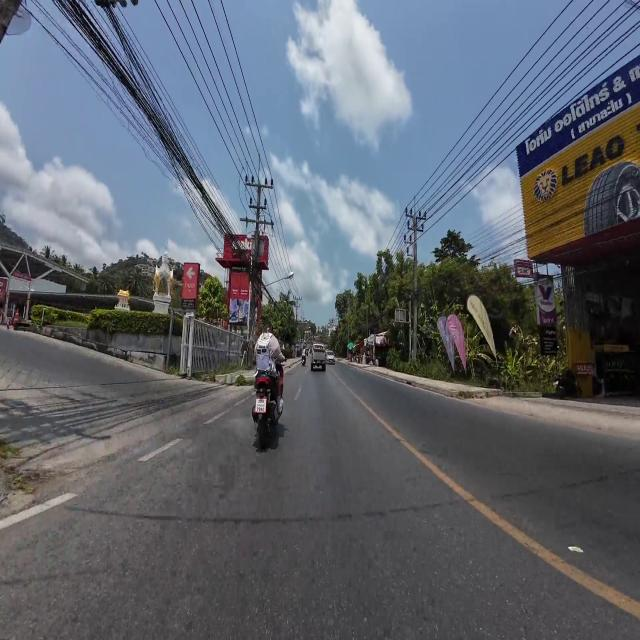car: (311, 342, 327, 373), (326, 351, 335, 364)
motorcycle: (252, 371, 282, 449), (301, 355, 306, 366)
